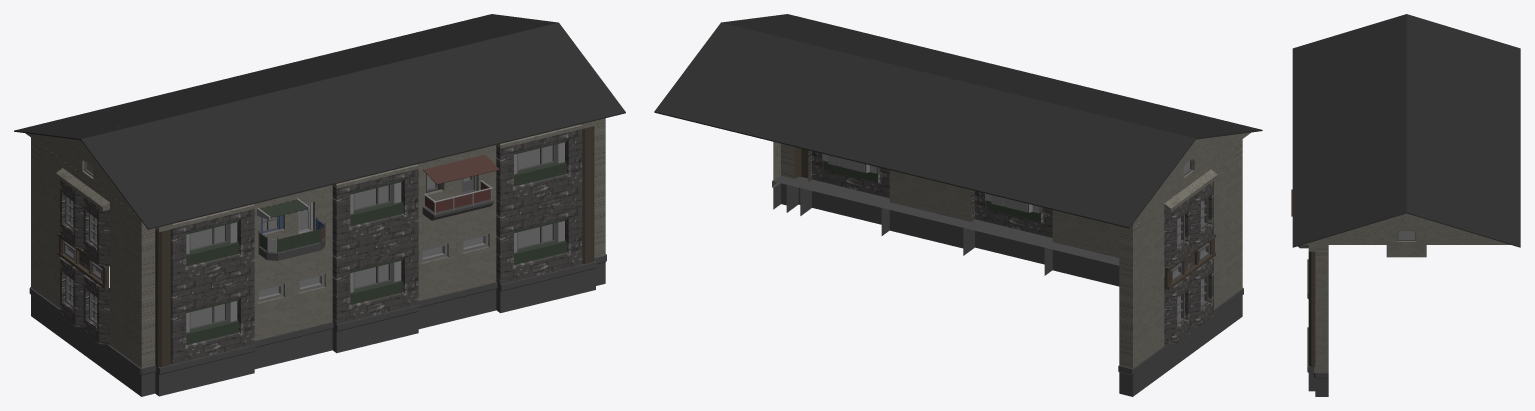
Rendered from BLOCK1.5.fbx.
3 views of the same model, side by side, from view 1: azimuth 30°, elevation 25°; view 2: azimuth 150°, elevation 25°; view 3: azimuth 270°, elevation 25° (orthographic). The views are drawn at different scales.
Visible parts, largest first — view 1: Plane.284, Plane.283, Plane.271, Plane.282, Plane.277, Plane.270, Plane.272, Plane.280, Plane.278, Plane.279, Plane.281; view 2: Plane.284, Plane.283, Plane.282, Plane.270, Plane.271, Plane.277; view 3: Plane.284, Plane.283, Plane.282.
Boxes of the visible parts, box(x1,y1,x2,y2) form: Plane.284: box(14, 14, 625, 229); Plane.283: box(31, 118, 605, 368); Plane.271: box(171, 129, 582, 364); Plane.282: box(29, 254, 606, 396); Plane.277: box(186, 140, 566, 344); Plane.270: box(57, 180, 109, 345); Plane.272: box(257, 174, 488, 302); Plane.280: box(258, 217, 325, 260); Plane.278: box(422, 180, 493, 220); Plane.279: box(423, 155, 499, 184); Plane.281: box(257, 198, 309, 219); Plane.284: box(654, 14, 1262, 228); Plane.283: box(773, 135, 1242, 368); Plane.282: box(772, 175, 1243, 396); Plane.270: box(1164, 181, 1215, 345); Plane.271: box(808, 150, 1052, 237); Plane.277: box(822, 153, 1040, 222); Plane.284: box(1292, 14, 1520, 247); Plane.283: box(1308, 220, 1480, 372); Plane.282: box(1307, 259, 1328, 396).
Size of the model in its own units: 3500 by 1542 by 1710.
